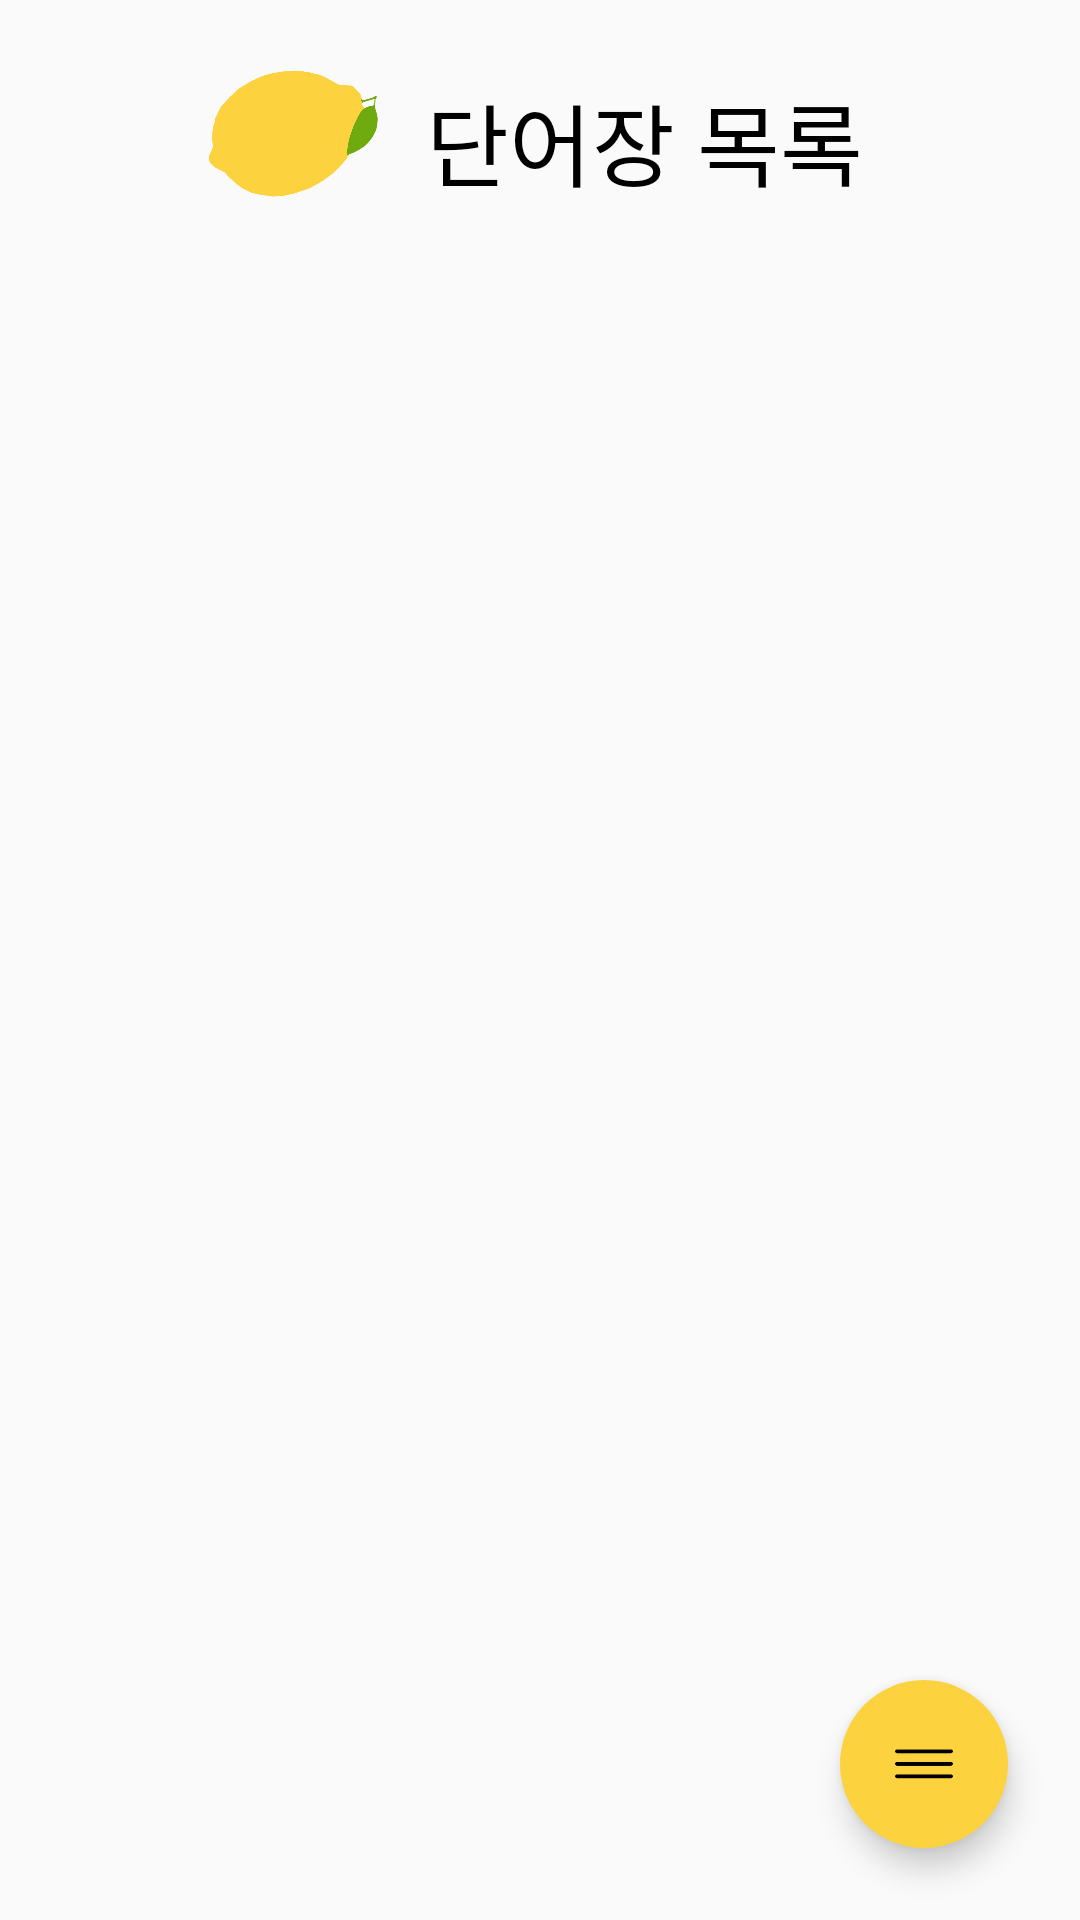

Where icons sit on this 1080w x 1920h app screen, as (x1, y1, x2, y2):
fabmenu: (840, 1680, 1008, 1848)
